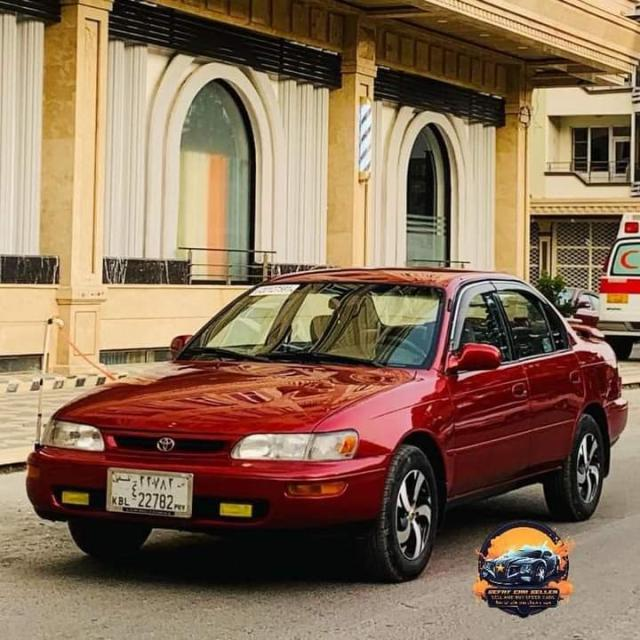Plate: (108, 468, 191, 516)
